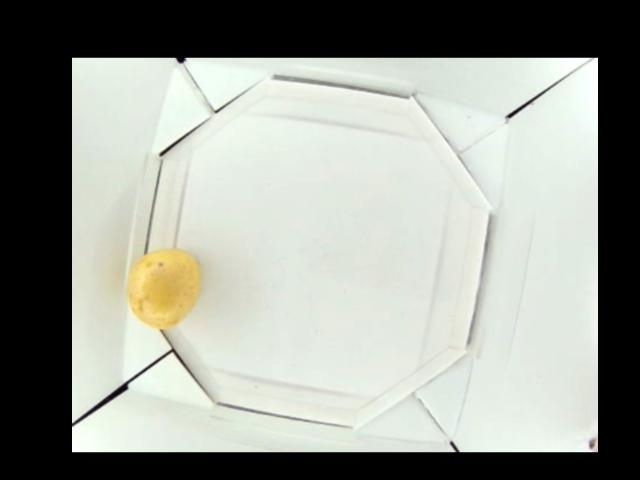Potato: (126, 245, 200, 331)
